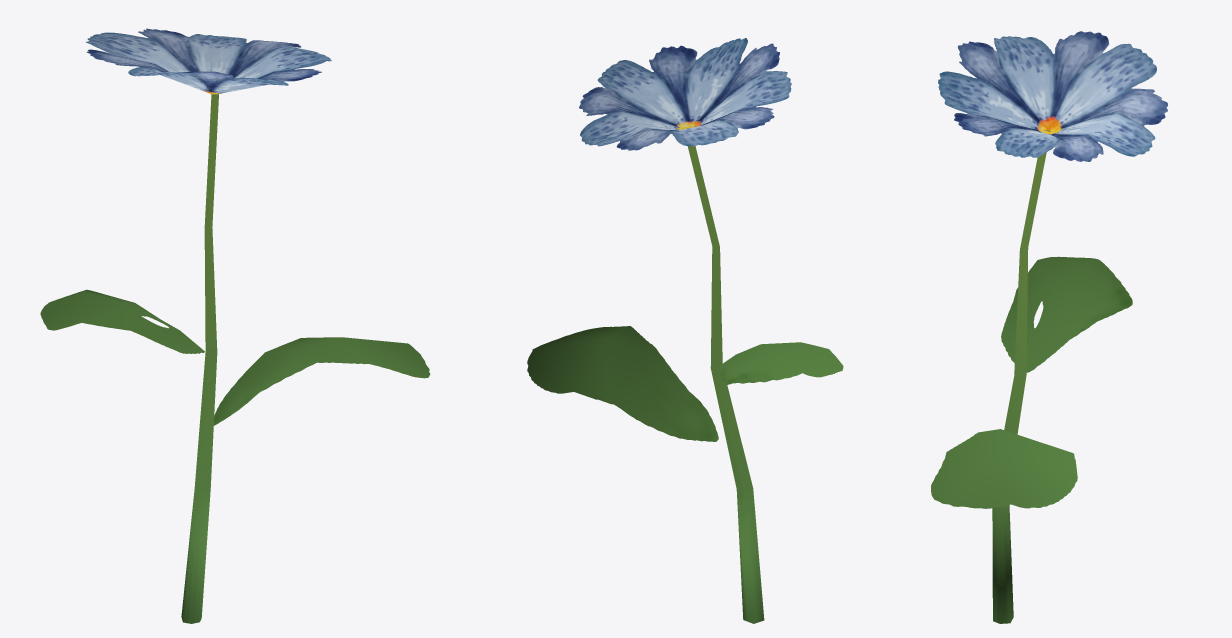
The model's file is FlowerA_VAR.fbx.
The picture shows the model from 3 angles, left to right: view 1: azimuth 30°, elevation 25°; view 2: azimuth 150°, elevation 25°; view 3: azimuth 270°, elevation 25°; orthographic projection. The views are drawn at different scales.
Visible parts, largest first — view 1: FlowerA_VARLOD0; view 2: FlowerA_VARLOD0; view 3: FlowerA_VARLOD0.
Part boxes in pixels (<box>): FlowerA_VARLOD0: <box>40,28,430,623</box>; FlowerA_VARLOD0: <box>527,38,843,623</box>; FlowerA_VARLOD0: <box>931,31,1167,623</box>.
Size of what is drawn, in the model's own units: 38.9 by 55.92 by 28.42.
